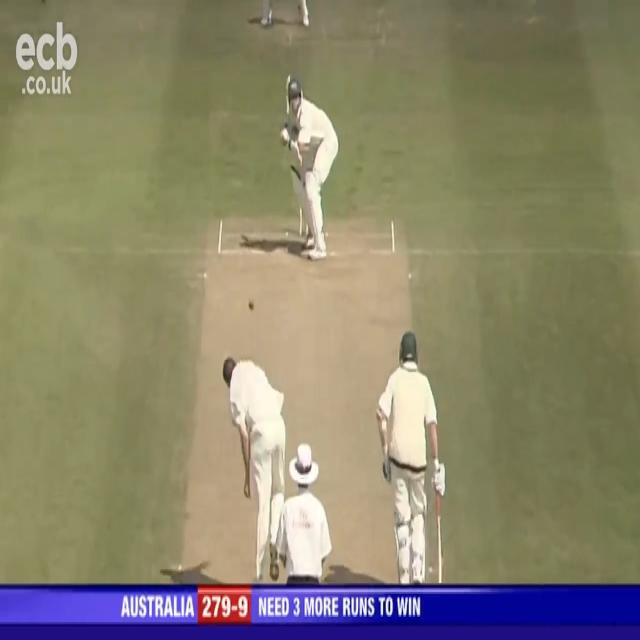ball: (247, 296, 257, 314)
